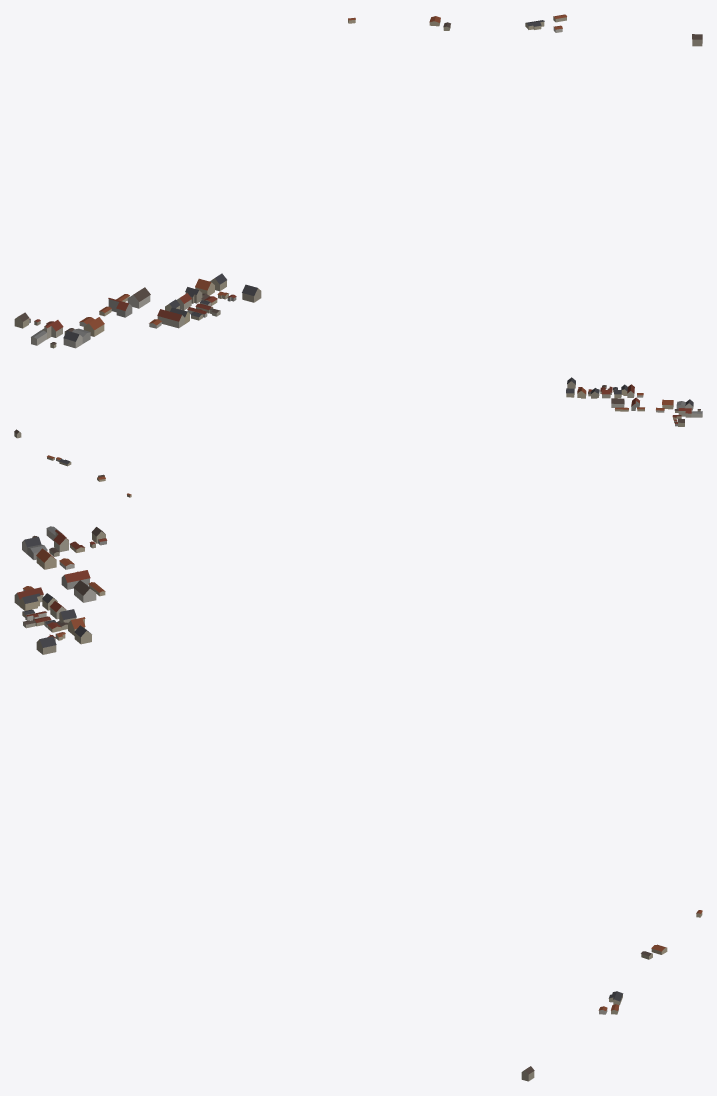
The picture shows the model from 3 angles, top to bottom: view 1: azimuth 30°, elevation 25°; view 2: azimuth 150°, elevation 25°; view 3: azimuth 270°, elevation 25°; orthographic projection. The views are drawn at different scales.
Visible parts, largest first — view 1: buildings; view 2: buildings; view 3: buildings.
Part boxes in pixels (x1,y1,x2,y2): buildings: (14, 14, 702, 348); buildings: (14, 377, 702, 497); buildings: (14, 526, 702, 1081).
Bounding box in the file's own units: 802 × 81.82 × 508.
